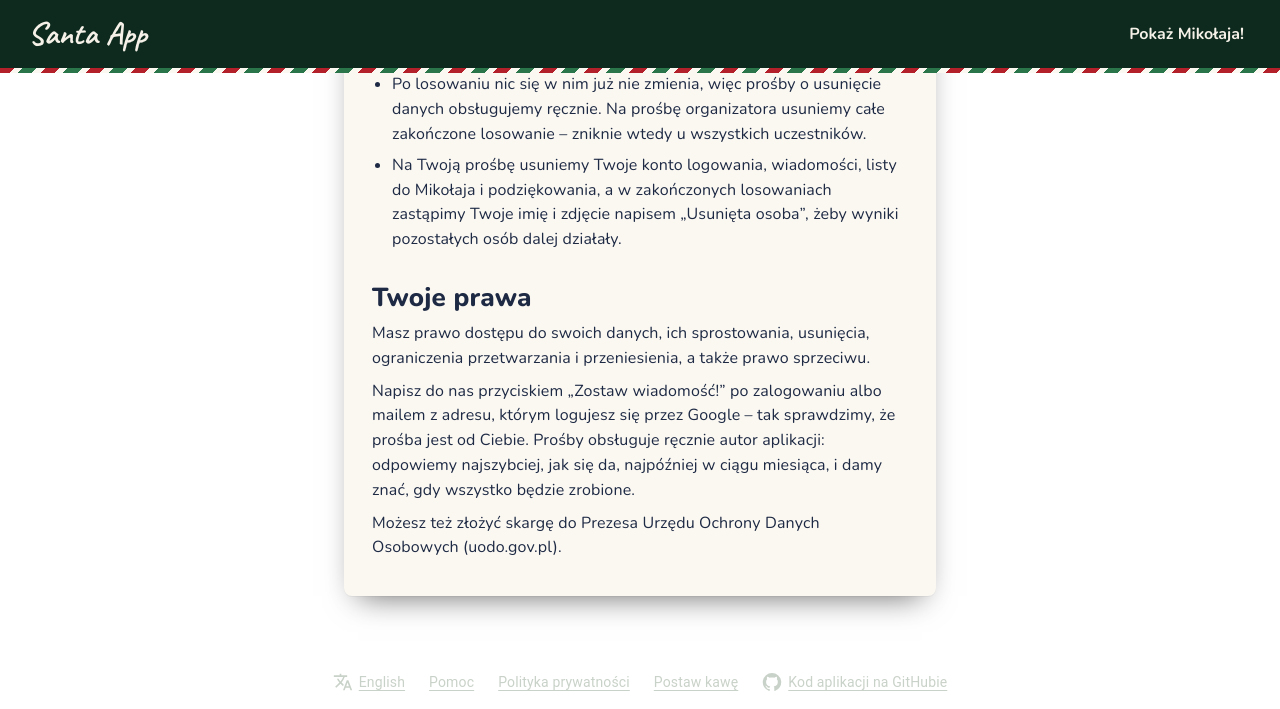
PrivacyPage › describes browser storage in Polish and English
(page scrolled)
Check: the list item "zastąpimy Twoje imię i zdjęcie napisem „Usunięta osoba”" is shown, box [392, 154, 899, 250]
Step 1. Click the button "English" → click(369, 682), box [333, 660, 405, 704]
(page scrolled)
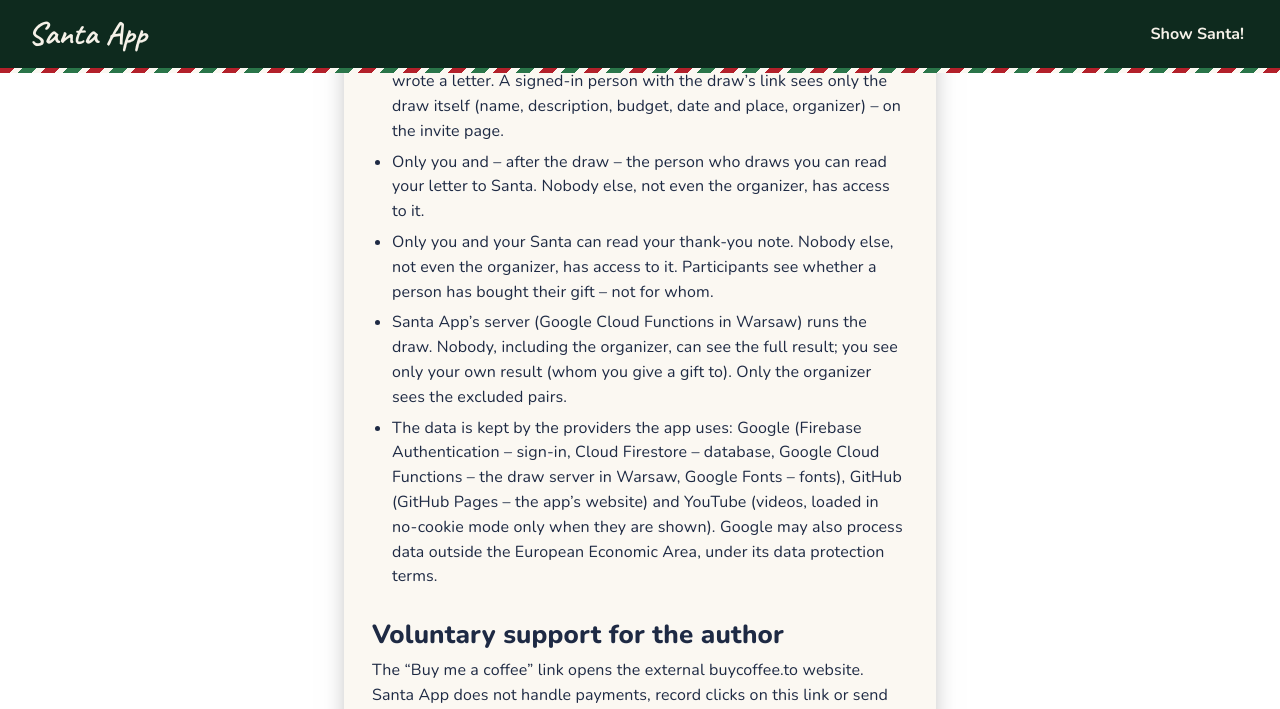
Check: the list item "Santa App’s server (Google Cloud Functions in Warsaw) runs the draw. Nobody, including the organizer, can see the ful" is shown, box [392, 311, 898, 408]
